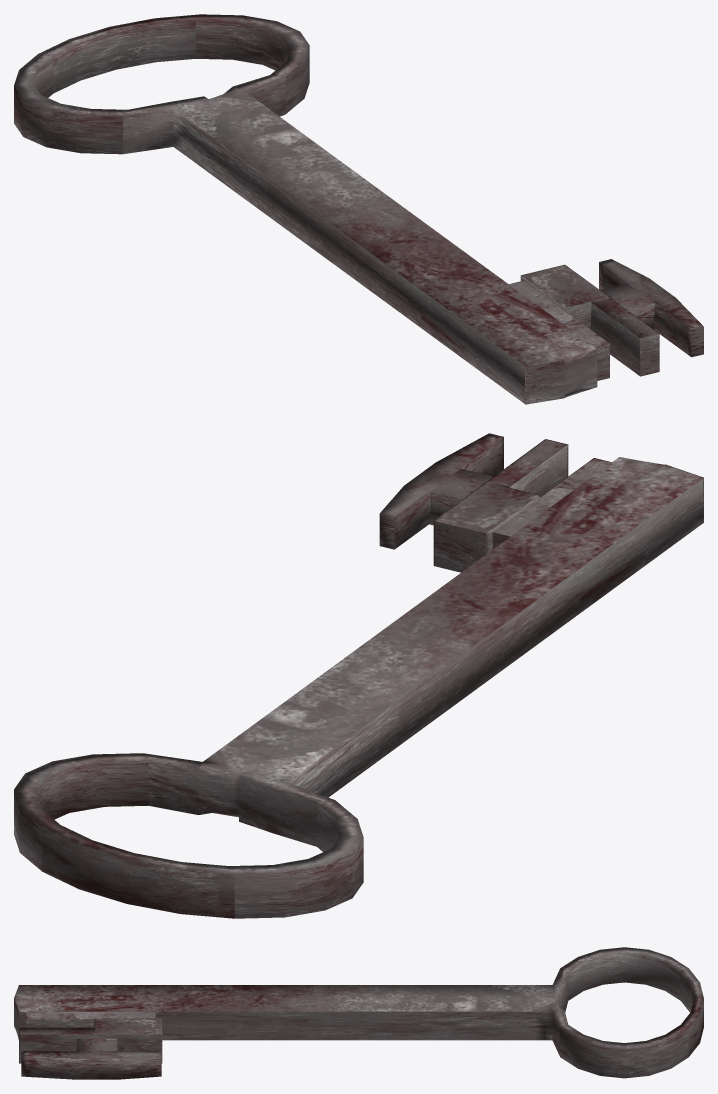
Rendered from Key.fbx.
3 renders of one model, top to bottom at view 1: azimuth 30°, elevation 25°; view 2: azimuth 150°, elevation 25°; view 3: azimuth 270°, elevation 25°, orthographic. The views are drawn at different scales.
Visible parts, largest first — view 1: key1; view 2: key1; view 3: key1.
Part boxes in pixels (bbox=[...]): key1: bbox=[14, 14, 703, 404]; key1: bbox=[14, 433, 703, 918]; key1: bbox=[14, 947, 703, 1079].
Size of the model in its own units: 2.51 by 0.3147 by 6.81.
